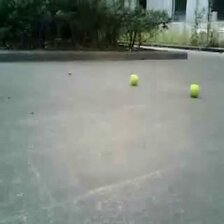tennis: (188, 84, 200, 97), (129, 74, 139, 83)
